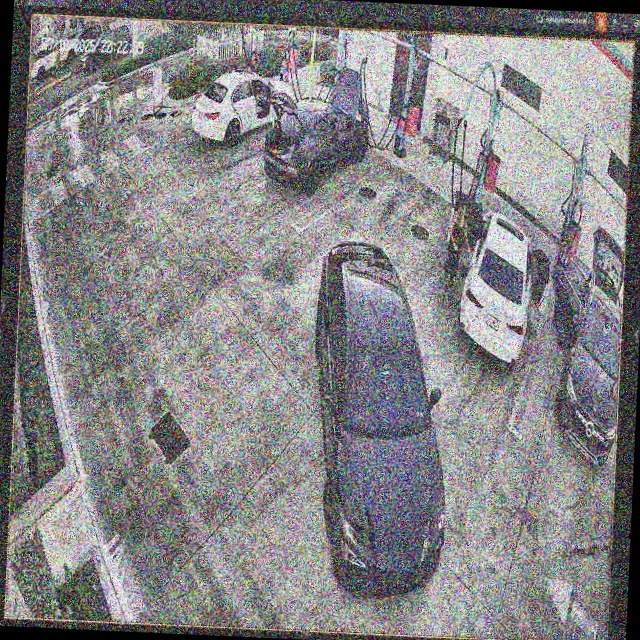Car: (300, 237, 457, 593), (441, 185, 563, 374), (260, 67, 371, 200), (194, 68, 296, 158)
